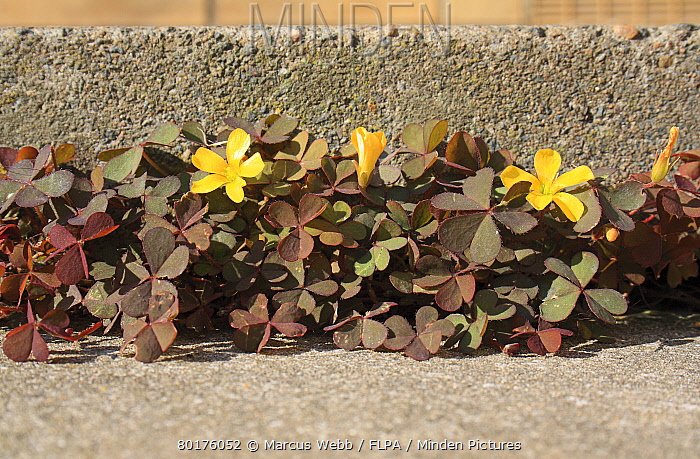oxalis: (3, 126, 687, 354)
